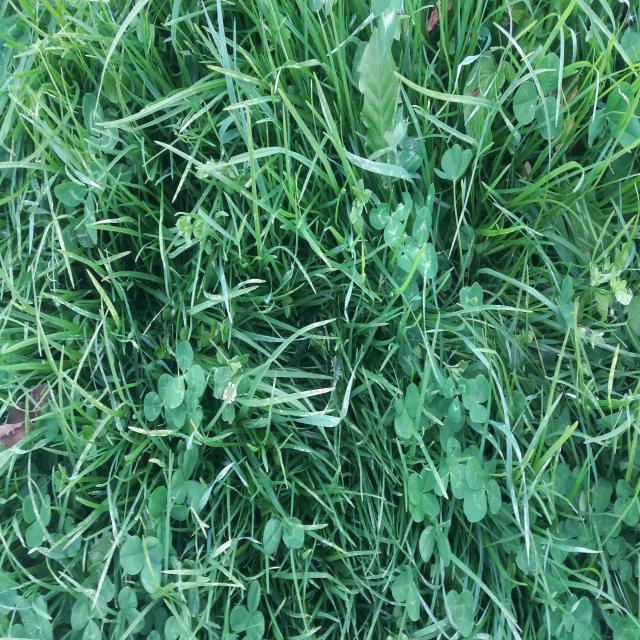Four Leaf Clover: (433, 351, 487, 414), (408, 465, 440, 523)
